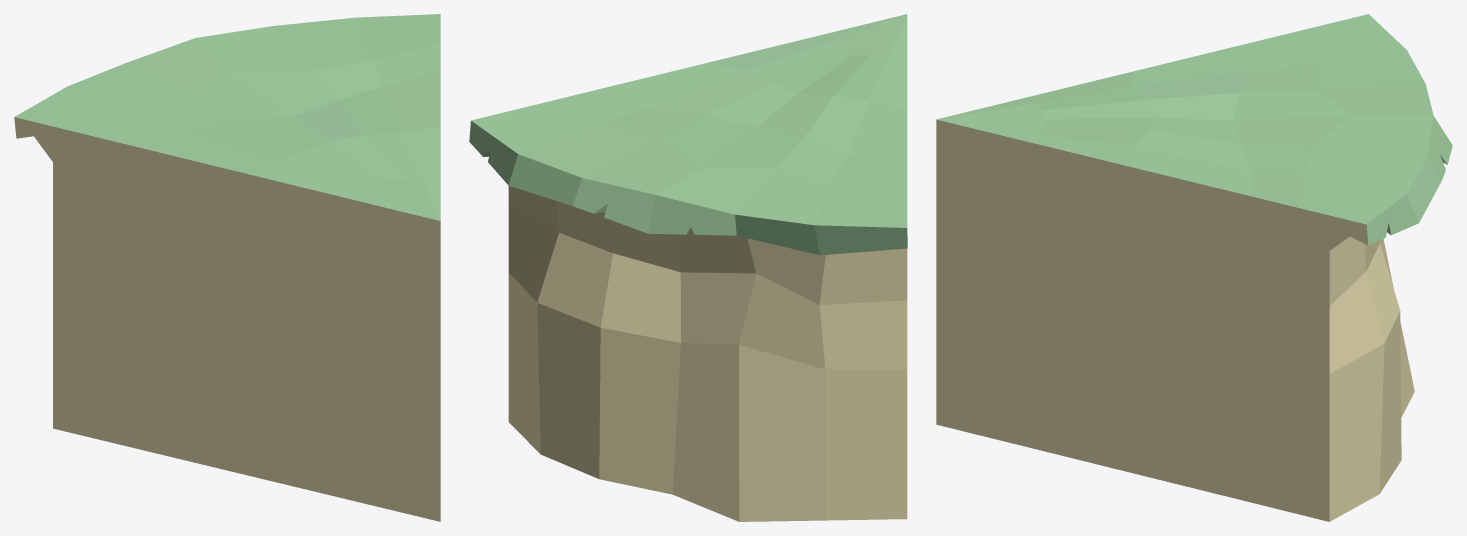
File: tile8.glb
3 renders of one model, left to right at view 1: azimuth 30°, elevation 25°; view 2: azimuth 150°, elevation 25°; view 3: azimuth 270°, elevation 25°, orthographic. The views are drawn at different scales.
Parts seen in each view (by area): view 1: hill8; view 2: hill8; view 3: hill8.
Boxes of the visible parts, x1,y1,x2,y2 form: hill8: (14,14,440,521); hill8: (469,14,907,521); hill8: (936,14,1452,521).
Bounding box in the file's own units: 0.5496 × 0.3788 × 0.5687.
